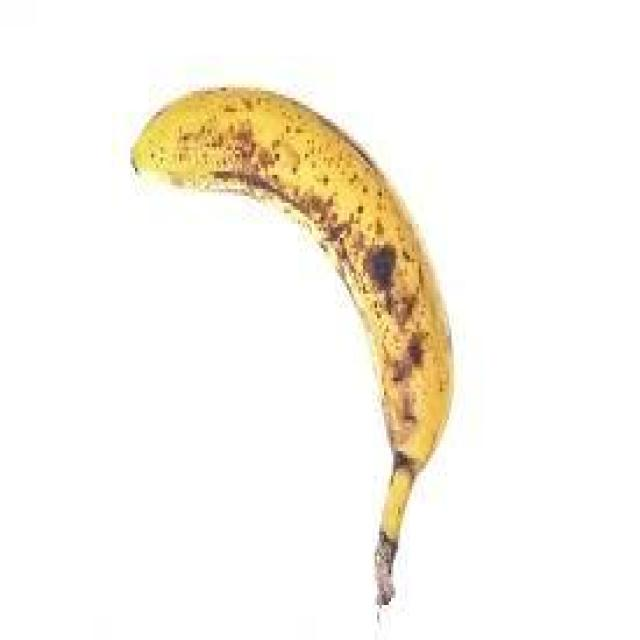Overripe: (122, 76, 513, 636)
